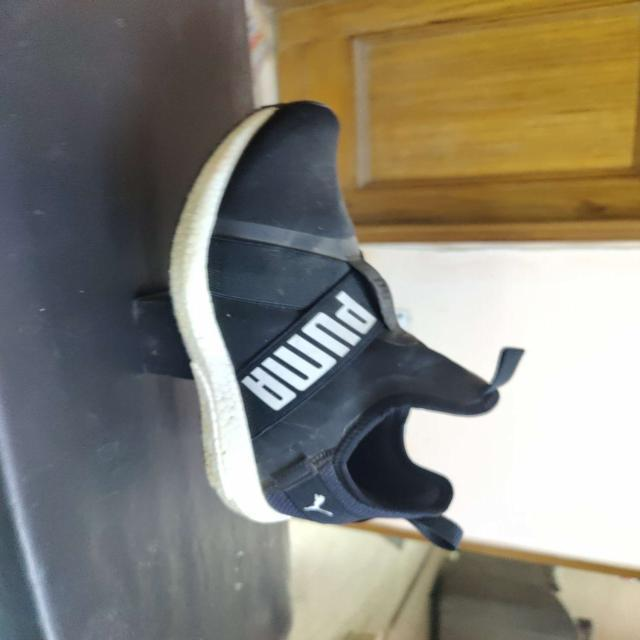shoes: (166, 99, 524, 552)
